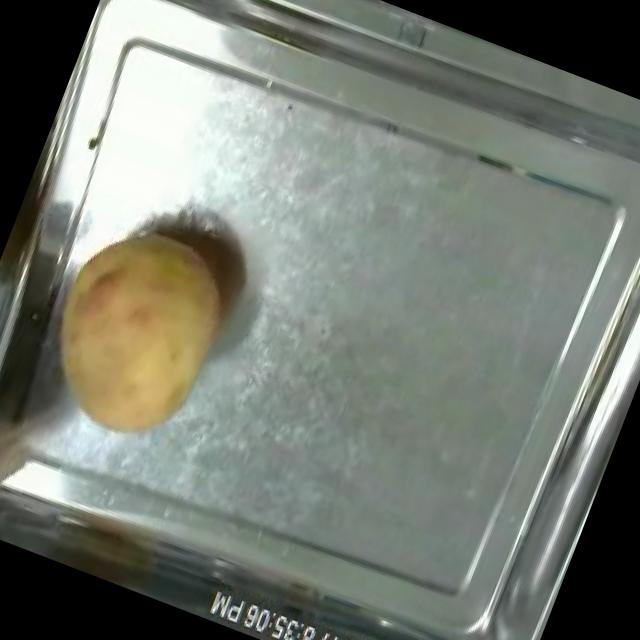Fruit: (10, 196, 259, 468)
